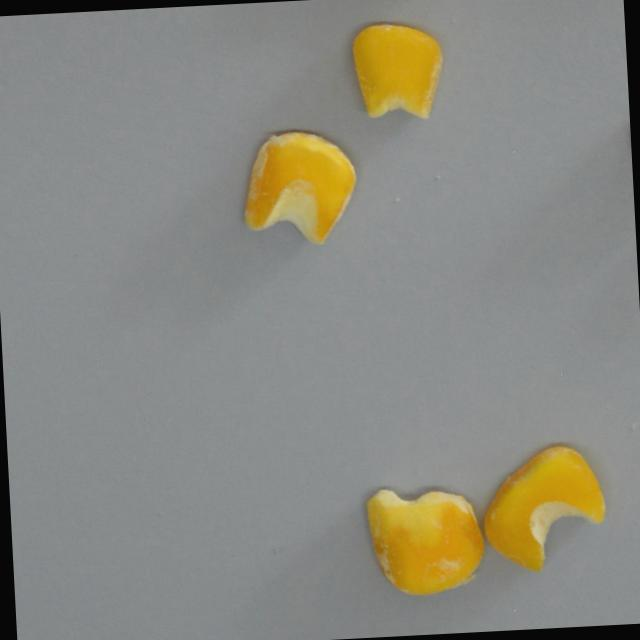no_canjicado: (476, 440, 615, 582)
pelicula: (235, 124, 364, 253), (360, 482, 492, 602), (345, 18, 451, 129)
